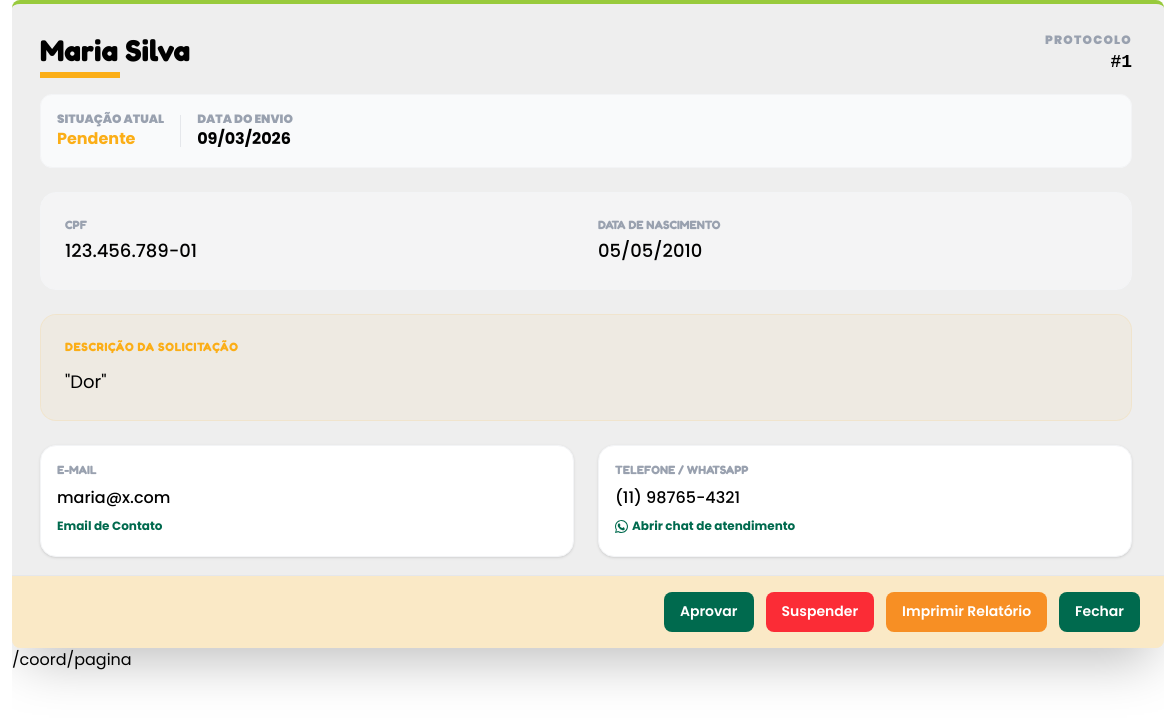
Test: link do chat — telefone do beneficiário (pedido de ajuda) › sem DDI no painel do coordenador
Click the button "Abrir chat de atendimento": point(705, 526) left=615, top=518, right=795, bottom=534
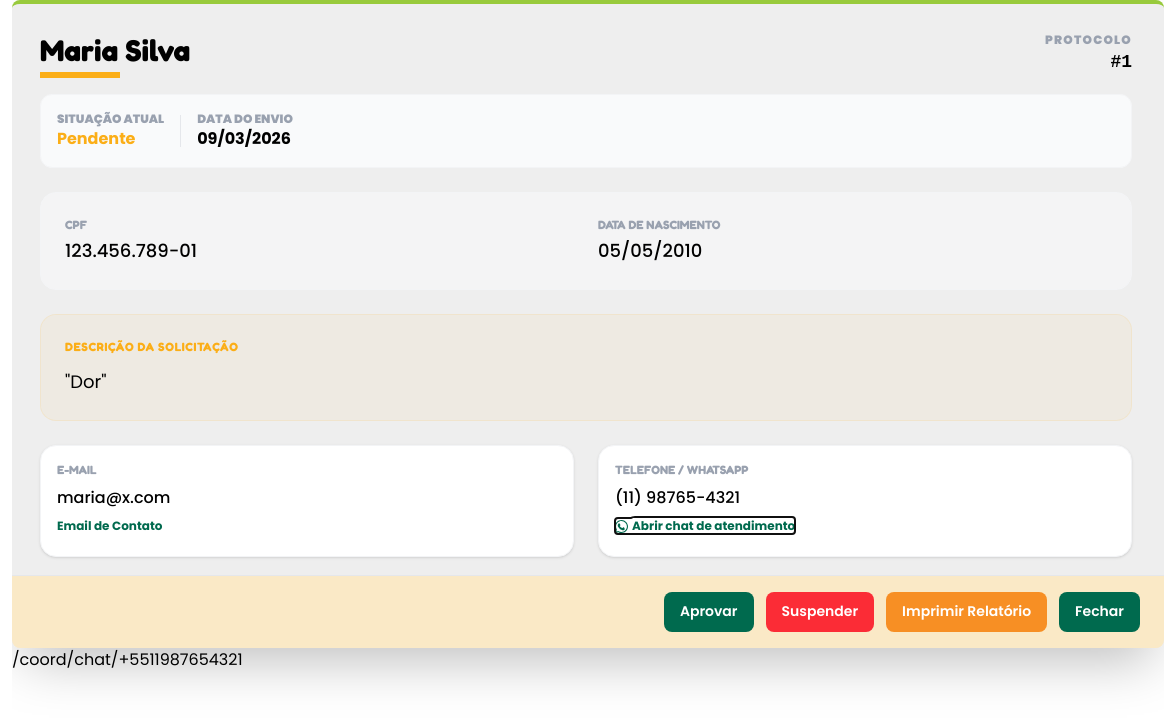
Expected: the text with test id "local" reads "/coord/chat/+5511987654321", left=12, top=648, right=243, bottom=671
